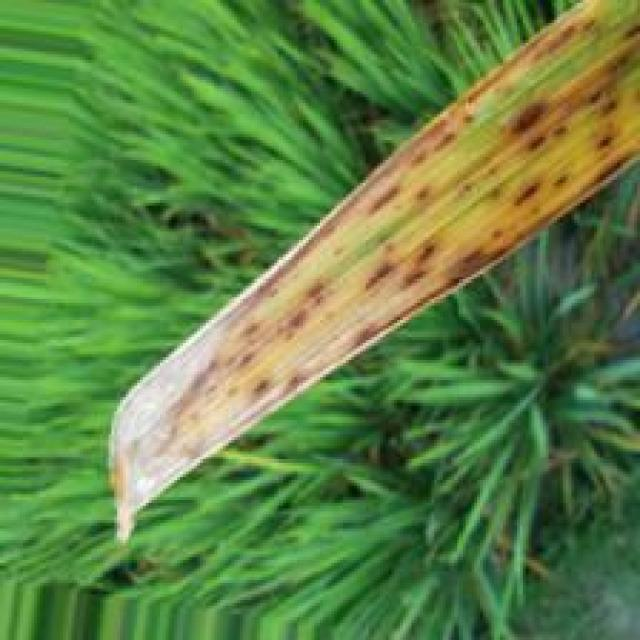Narrow_Brown_Leaf_Spot: (104, 0, 640, 540)
